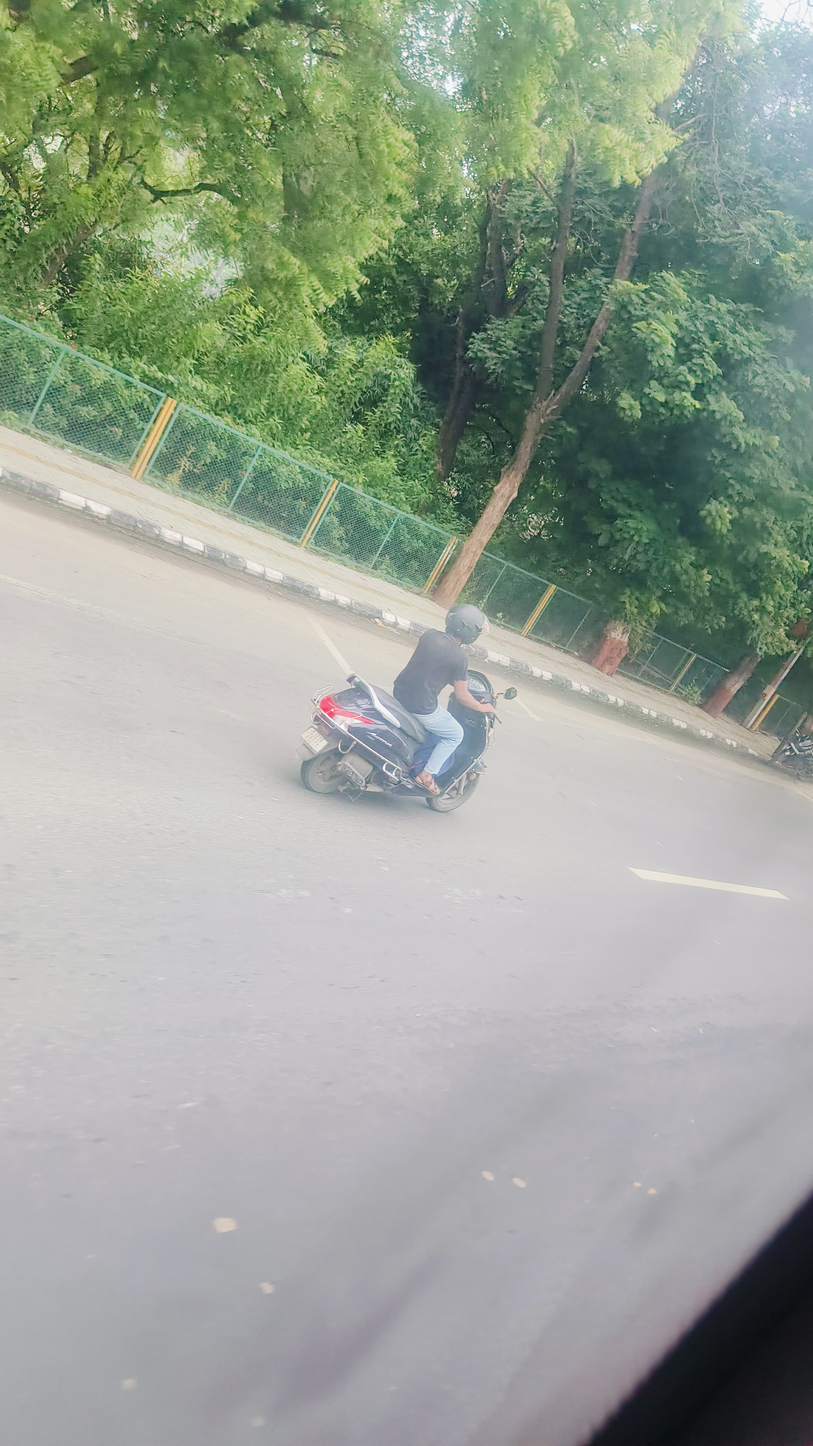BikeWithRider: (252, 558, 553, 853)
Helmet: (430, 596, 499, 649)
